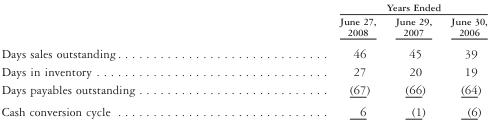table: (0, 1, 486, 117)
table column: (0, 1, 236, 117), (236, 1, 385, 117), (385, 1, 440, 117), (440, 1, 486, 117)
table column header: (0, 1, 486, 41)
table row: (0, 14, 486, 41), (0, 41, 486, 61), (0, 79, 486, 99), (0, 61, 486, 79), (0, 99, 486, 117), (0, 1, 486, 14)
table spanning cell: (236, 1, 486, 14)
